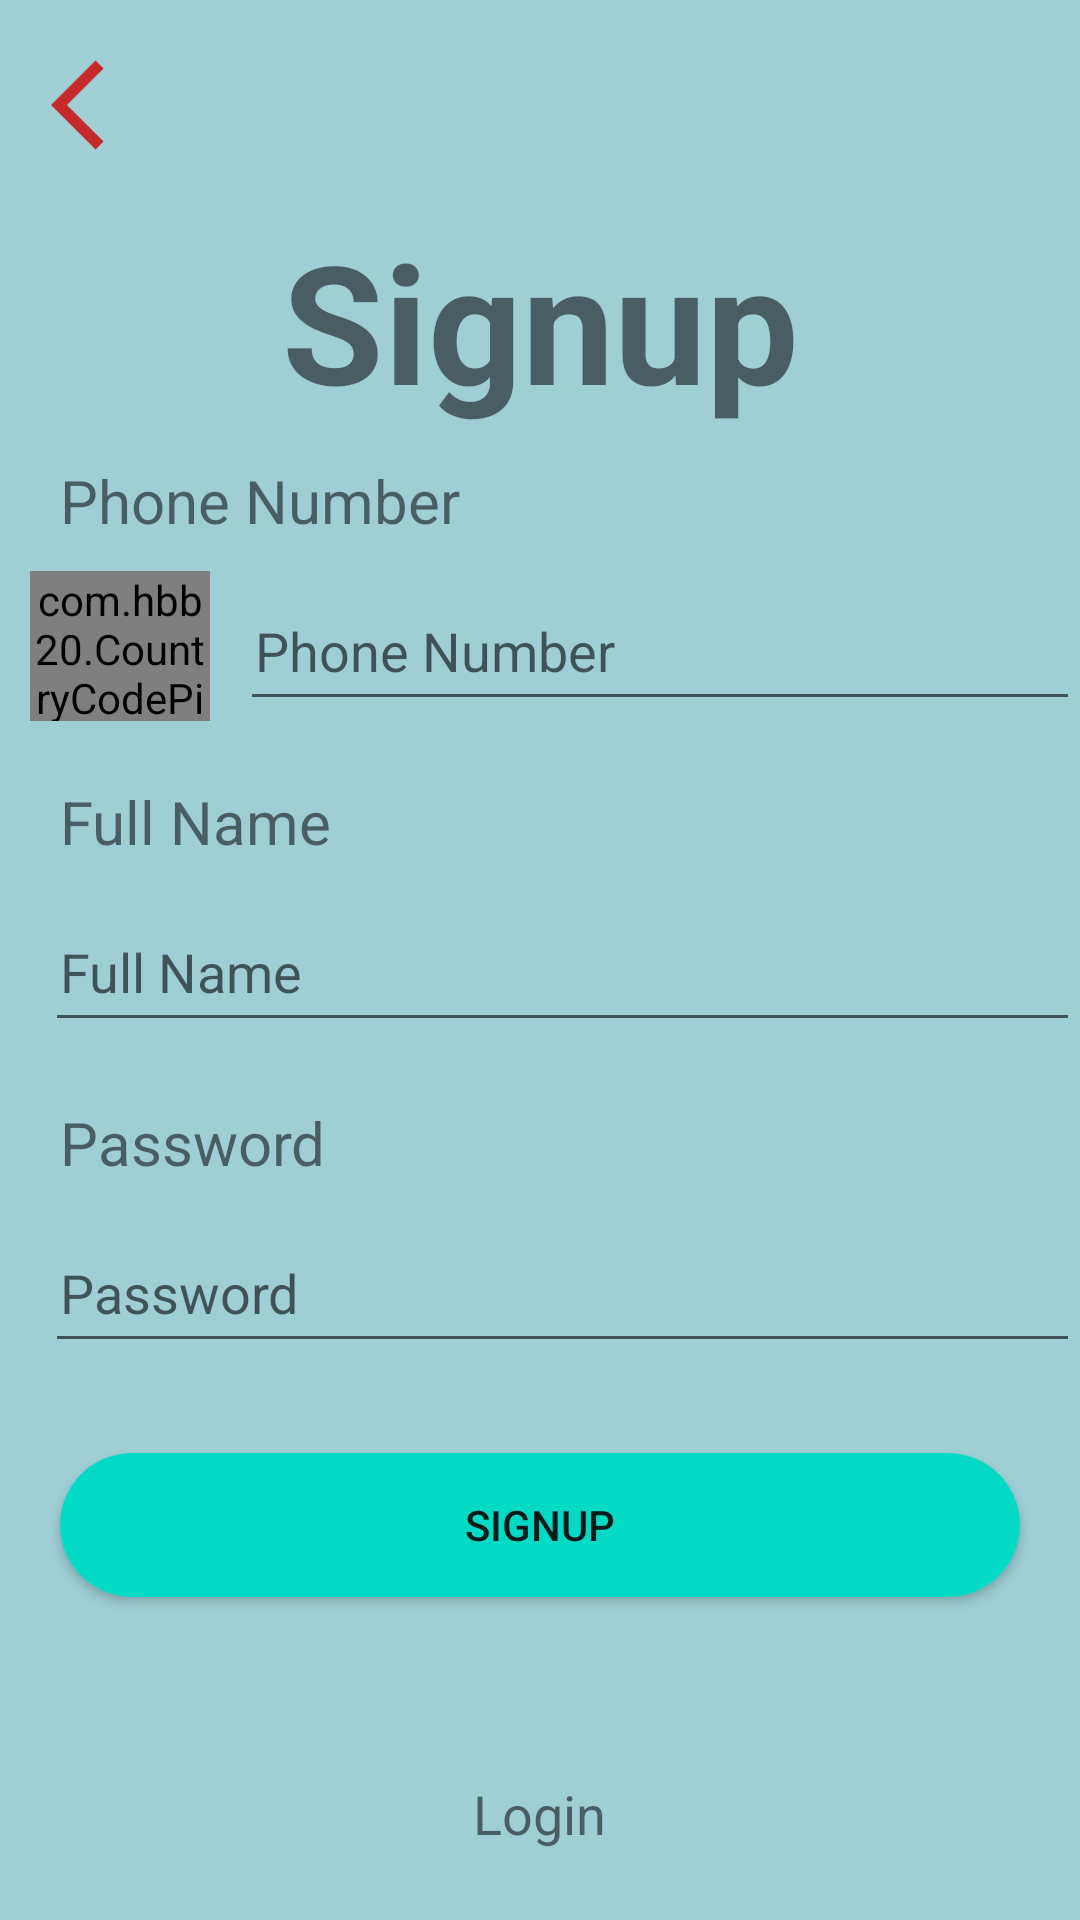

Named icons in this screenshot (1080×1920) and their bounding boxes, (x1=x1, y1=y1, x2=x2, y2=y2):
back: (x1=51, y1=60, x2=104, y2=150)
